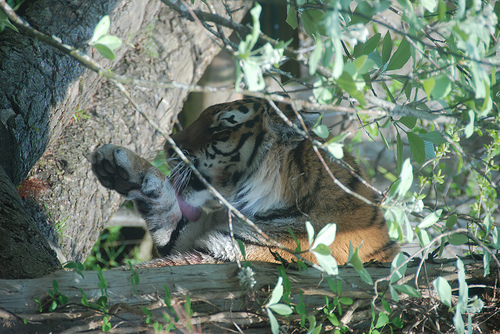Tigre: (146, 96, 343, 263)
